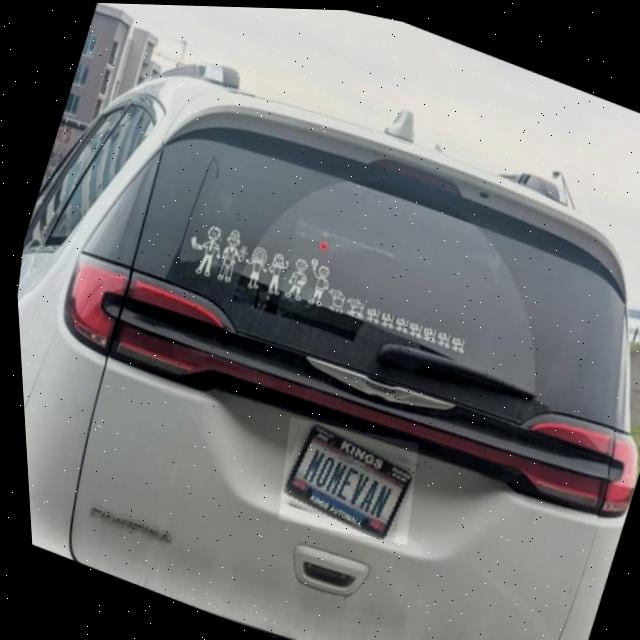LicensePlate: (276, 420, 409, 538)
